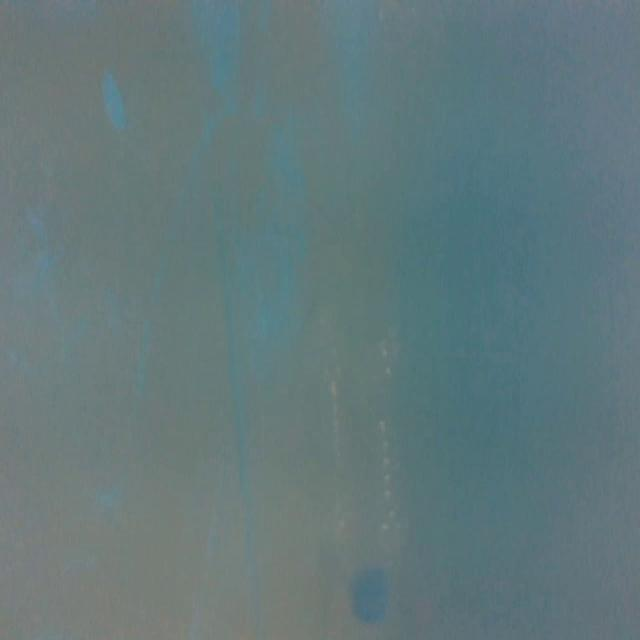plastic bottle: (306, 320, 414, 633)
